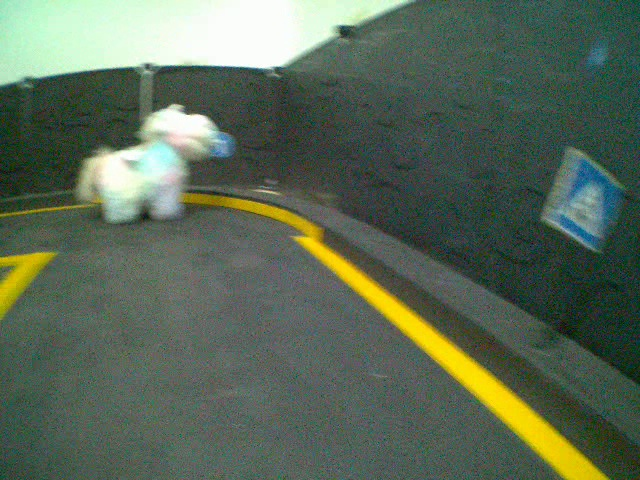unicorn: (70, 101, 220, 229)
